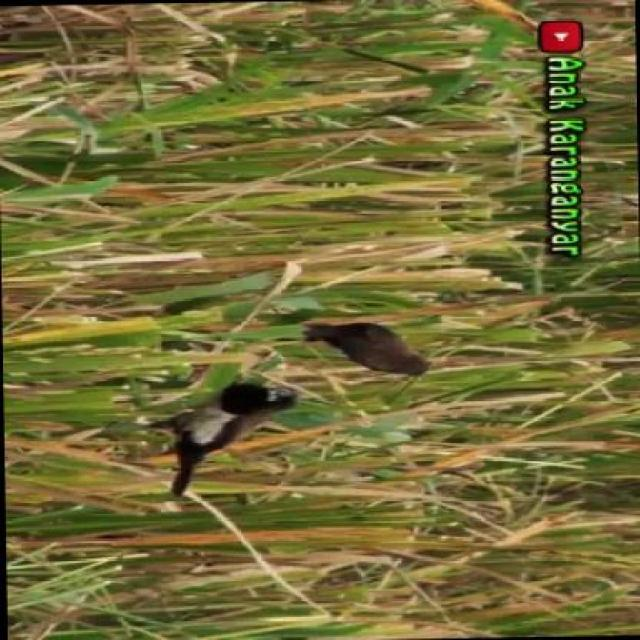Bird: (163, 362, 297, 501), (299, 301, 433, 391)
